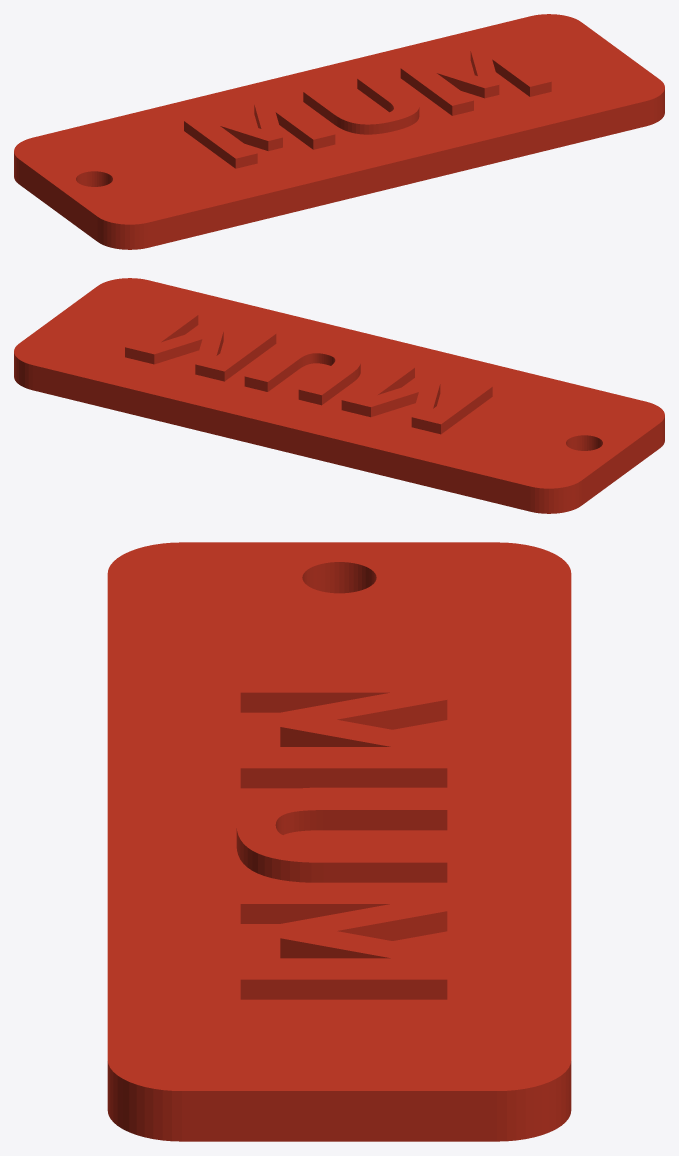
The model's file is name-tag-mum.glb.
The picture shows the model from 3 angles, top to bottom: view 1: azimuth 30°, elevation 25°; view 2: azimuth 150°, elevation 25°; view 3: azimuth 270°, elevation 25°; orthographic projection. The views are drawn at different scales.
Parts seen in each view (by area): view 1: part; view 2: part; view 3: part.
Boxes of the visible parts, left/top/right/bottom form: part: left=14, top=14, right=664, bottom=249; part: left=14, top=278, right=664, bottom=513; part: left=107, top=542, right=571, bottom=1141.
Size of the model in its own units: 0.07 by 0.0042 by 0.025.
